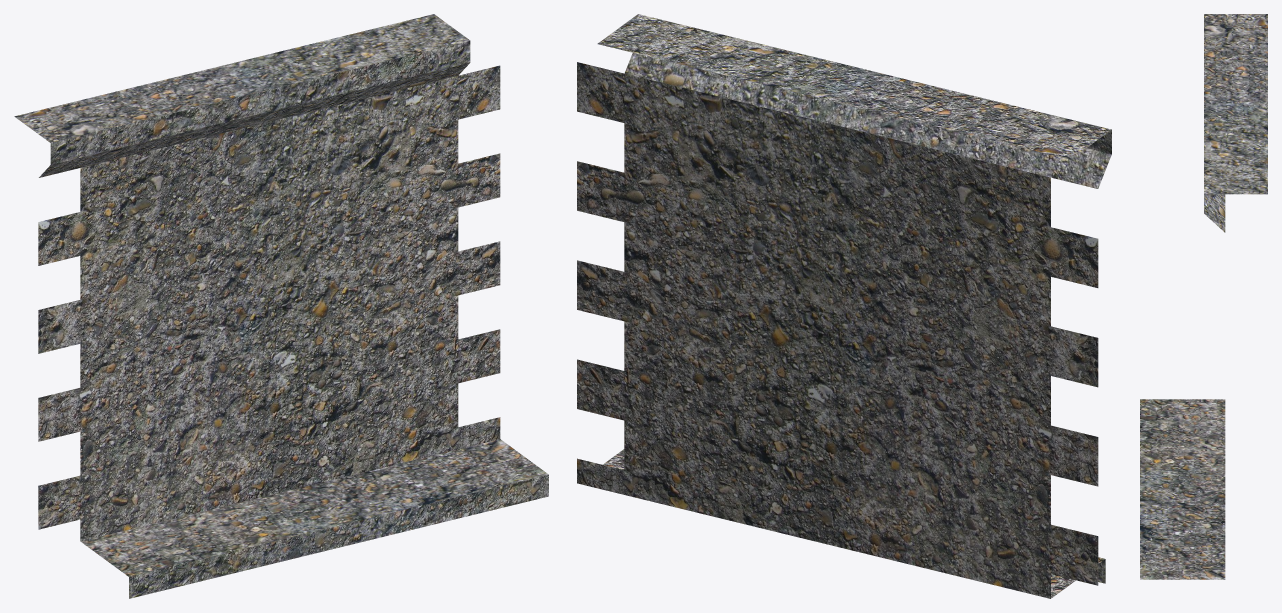
File: Wall.dae
The picture shows the model from 3 angles, left to right: view 1: azimuth 30°, elevation 25°; view 2: azimuth 150°, elevation 25°; view 3: azimuth 270°, elevation 25°; orthographic projection. The views are drawn at different scales.
Visible parts, largest first — view 1: Low_Poly; view 2: Low_Poly; view 3: Low_Poly.
Part boxes in pixels (left/top/right/bottom): Low_Poly: left=14, top=14, right=548, bottom=598; Low_Poly: left=577, top=14, right=1111, bottom=598; Low_Poly: left=1140, top=14, right=1267, bottom=579.
Size of the model in its own units: 2.2 by 0.6 by 2.
Materials: 1 (1 with a texture image).
